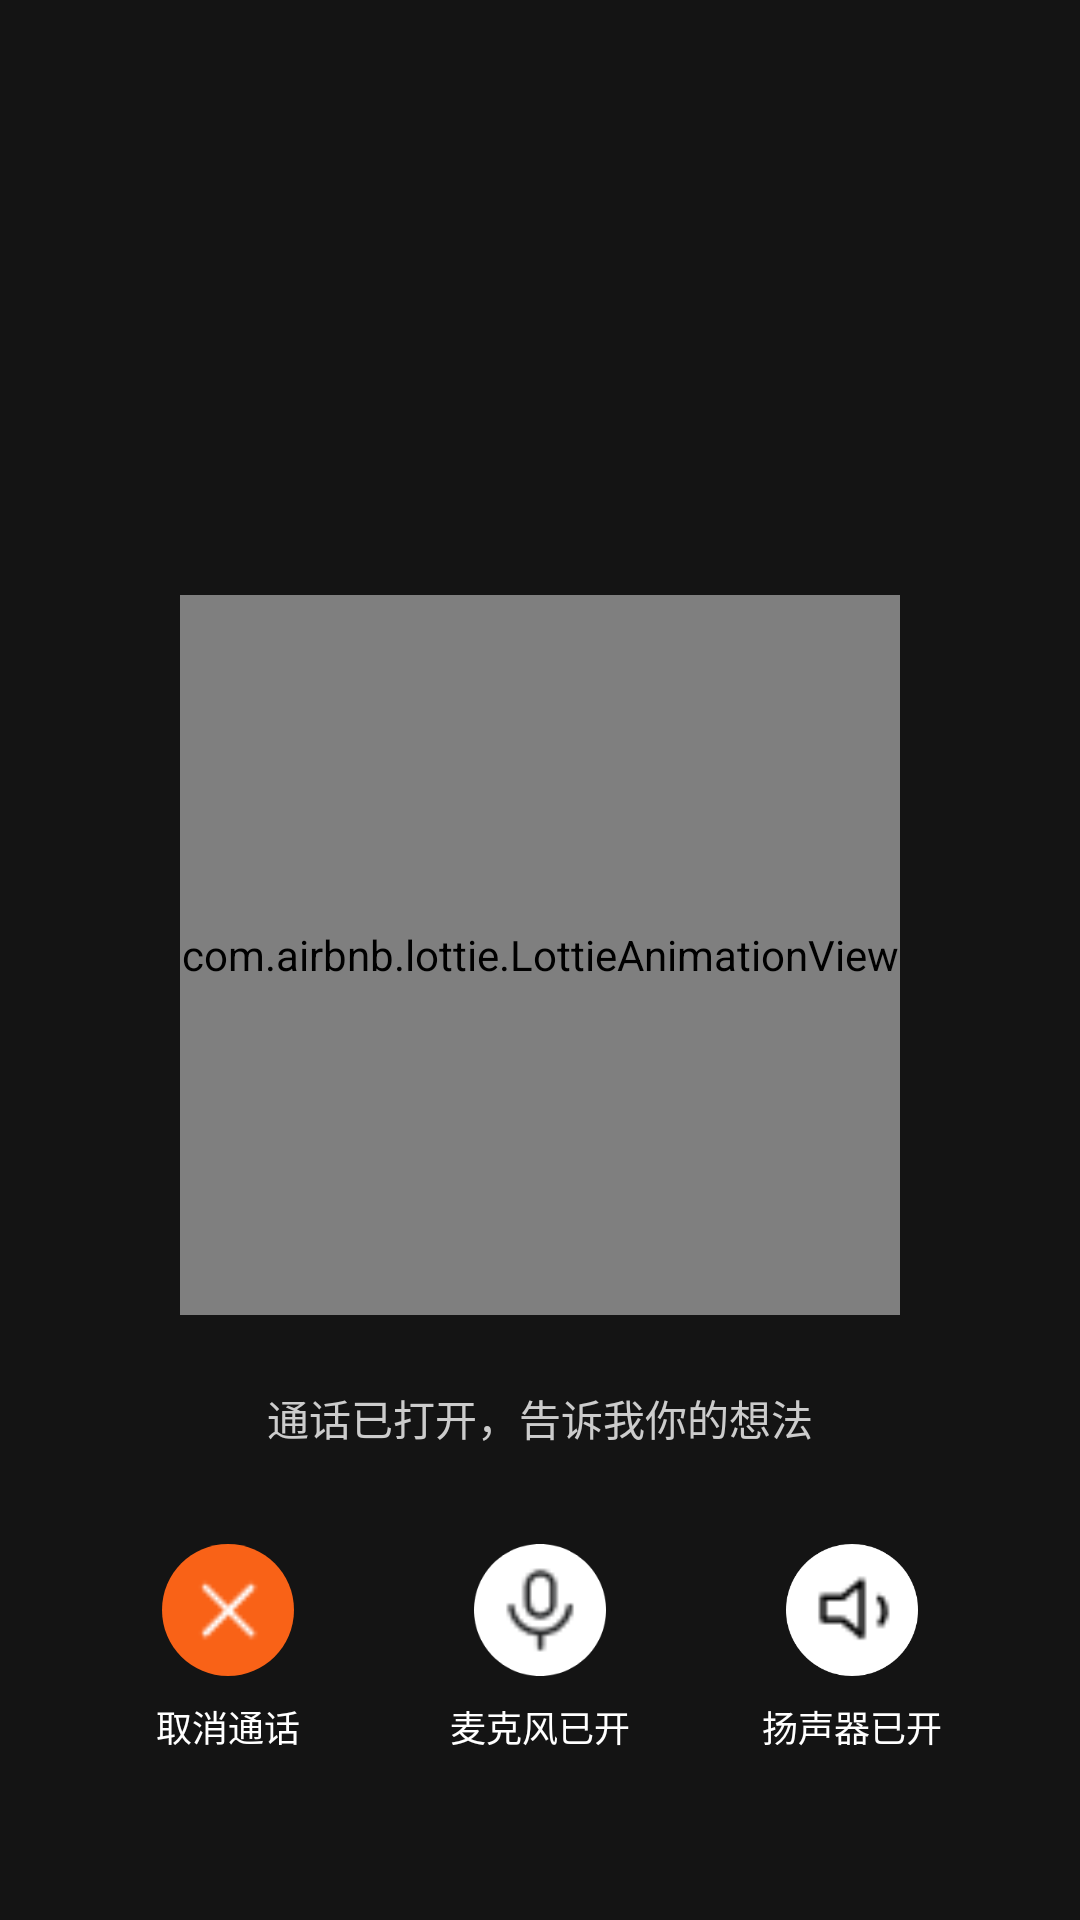

Where icons sit on this 1080 x 1920 app screen, as (x1, y1, x2, y2):
byte cancel: (201, 1583, 257, 1639)
byte mic on: (506, 1568, 574, 1652)
byte speaker on: (818, 1576, 890, 1640)
